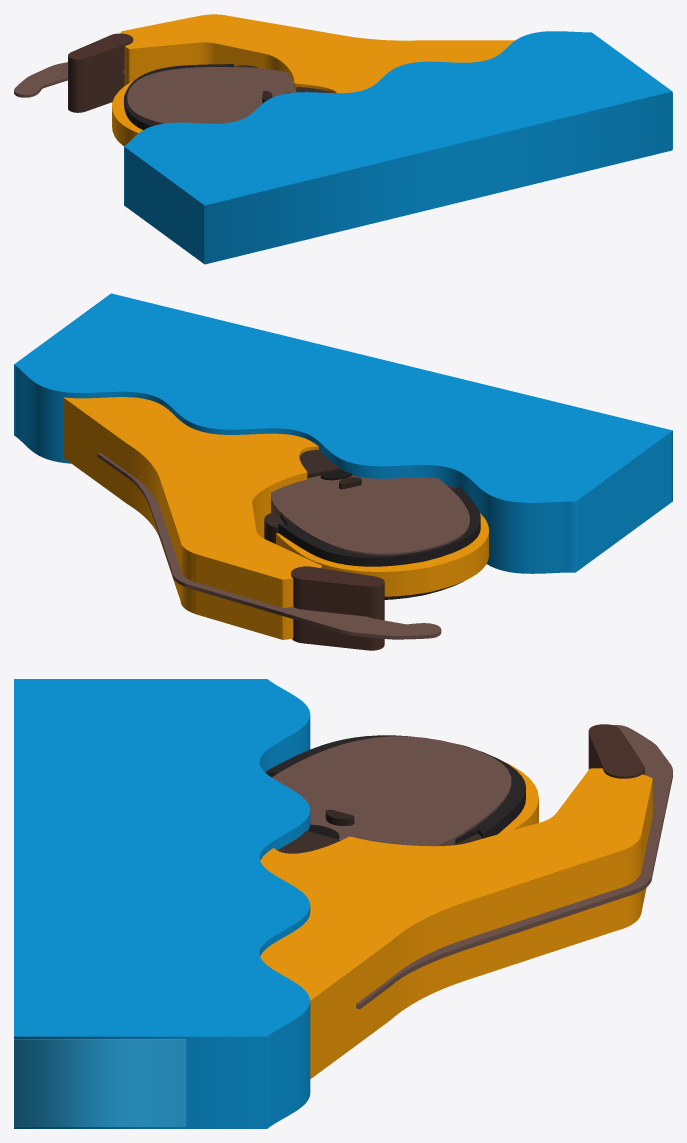
The model's file is emoji_u1f3ca_1f3ff.glb.
The picture shows the model from 3 angles, top to bottom: view 1: azimuth 30°, elevation 25°; view 2: azimuth 150°, elevation 25°; view 3: azimuth 270°, elevation 25°; orthographic projection. The views are drawn at different scales.
Parts seen in each view (by area): view 1: emoji_u1f3ca_1f3ff; view 2: emoji_u1f3ca_1f3ff; view 3: emoji_u1f3ca_1f3ff.
Part boxes in pixels (box(x1,y1,x2,y2)): emoji_u1f3ca_1f3ff: box(14, 14, 672, 264); emoji_u1f3ca_1f3ff: box(14, 293, 672, 650); emoji_u1f3ca_1f3ff: box(14, 679, 672, 1128).
Bounding box in the file's own units: 0.0332 × 0.004 × 0.0258.
